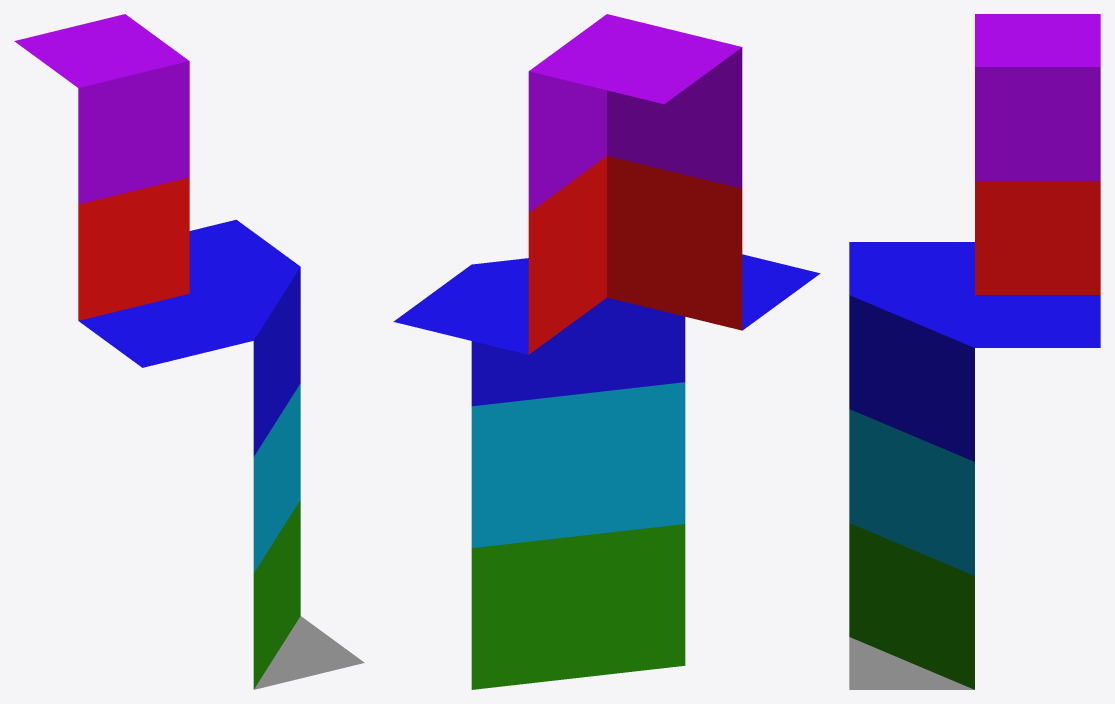
3 renders of one model, left to right at view 1: azimuth 30°, elevation 25°; view 2: azimuth 150°, elevation 25°; view 3: azimuth 270°, elevation 25°, orthographic. The views are drawn at different scales.
Visible parts, largest first — view 1: T_22777_0_0; view 2: T_22777_0_0; view 3: T_22777_0_0.
Part boxes in pixels (<box>): T_22777_0_0: <box>14,14,364,689</box>; T_22777_0_0: <box>393,14,820,689</box>; T_22777_0_0: <box>849,14,1100,689</box>.
Bounding box in the file's own units: 99.79 × 250 × 99.81.
